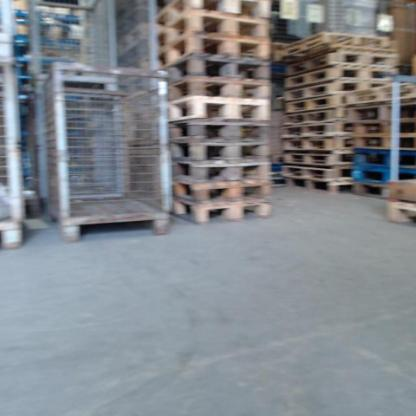pallet: (161, 54, 272, 103), (283, 54, 397, 90), (160, 3, 271, 37), (169, 195, 272, 224), (155, 38, 270, 58), (284, 33, 392, 53), (171, 144, 273, 165), (354, 165, 415, 198), (170, 100, 270, 120), (284, 82, 395, 100), (170, 124, 272, 142), (172, 164, 271, 182), (172, 183, 273, 200), (350, 99, 414, 121), (285, 95, 351, 114), (283, 180, 353, 194), (354, 149, 415, 165), (279, 123, 348, 137), (283, 136, 352, 150), (385, 197, 416, 228), (282, 110, 346, 124), (283, 163, 345, 177), (354, 135, 414, 149), (350, 121, 414, 133), (286, 152, 352, 162)
stillage: (46, 63, 171, 241), (35, 86, 134, 209), (26, 2, 158, 75), (2, 60, 35, 255)
